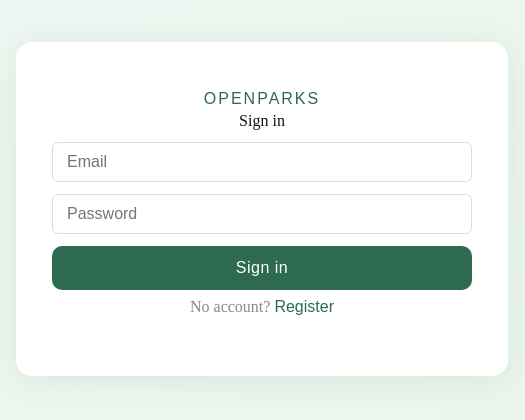
Test: LoginPage › switches back to login form from registration form
The width and height of the screenshot is (525, 420).
Click the button "Register" at [304, 307], box [274, 298, 334, 316]
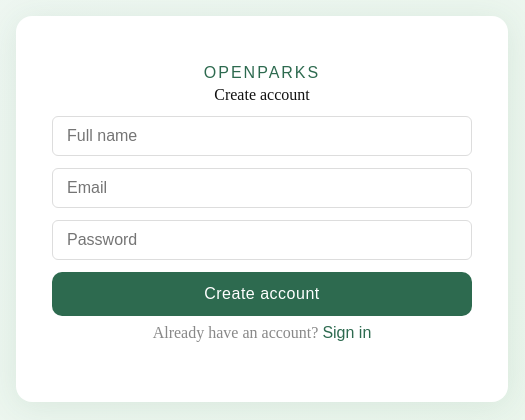
Click the button "Sign in" at [347, 333], box [322, 324, 371, 342]
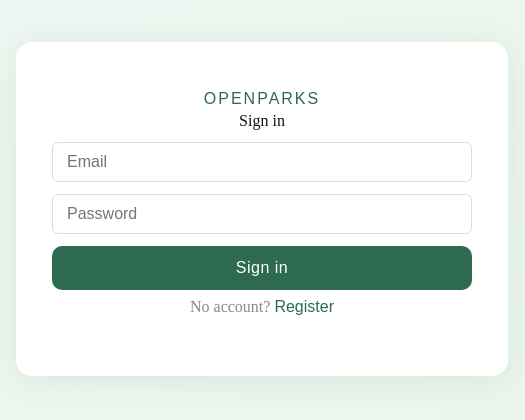
Expected: the field with placeholder "Full name" is not shown
Now the heading "Sign in" is shown, box [239, 112, 285, 129]
